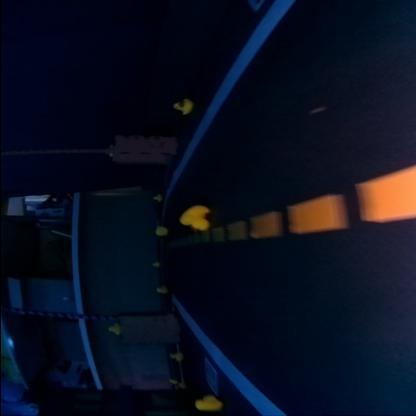Duckie: (180, 206, 208, 230), (196, 395, 219, 410), (172, 99, 190, 114), (106, 324, 118, 334), (170, 351, 180, 361), (153, 227, 165, 235), (154, 286, 166, 292), (152, 194, 160, 200)
